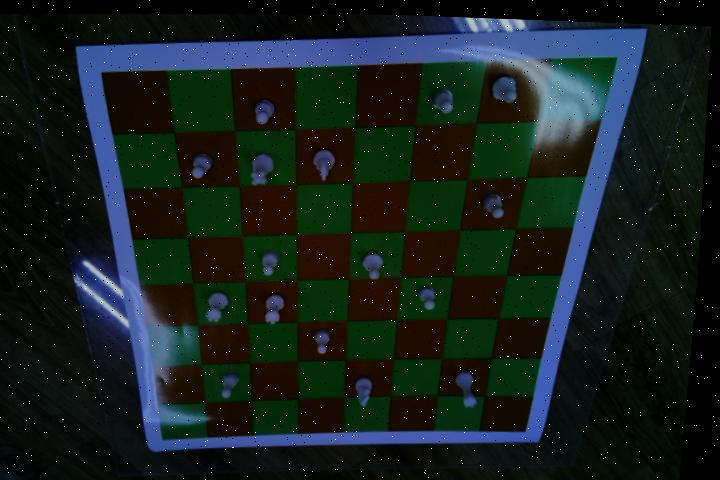chessboard-detect: (102, 51, 619, 437)
